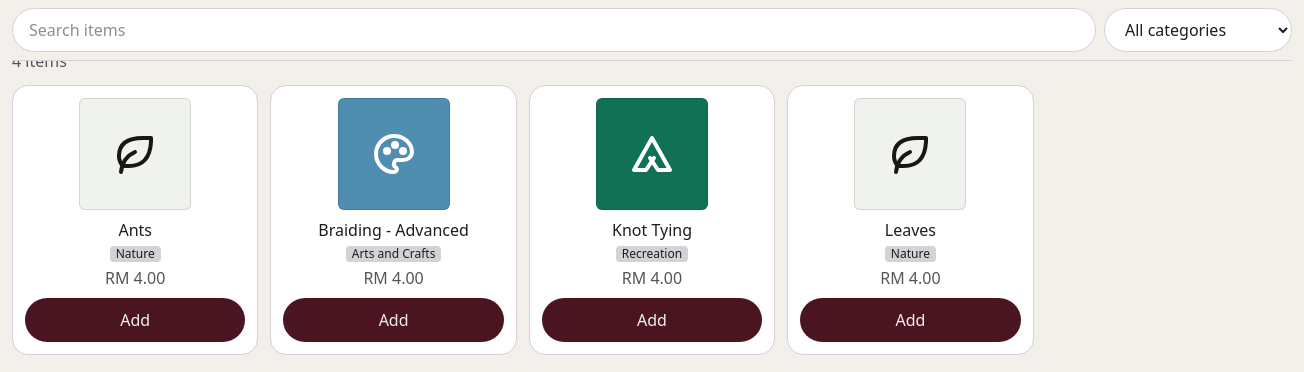
Catalogue › search and category filter › choosing Nature shows only Nature rows and choosing All categories brings every row back
This screenshot has width=1304, height=372.
Expected: the text "Ants" is shown, x1=118 y1=218 x2=152 y2=242
Select "Nature" in the dropdown named "Category" at (1198, 30), box x1=1104 y1=8 x2=1292 y2=52
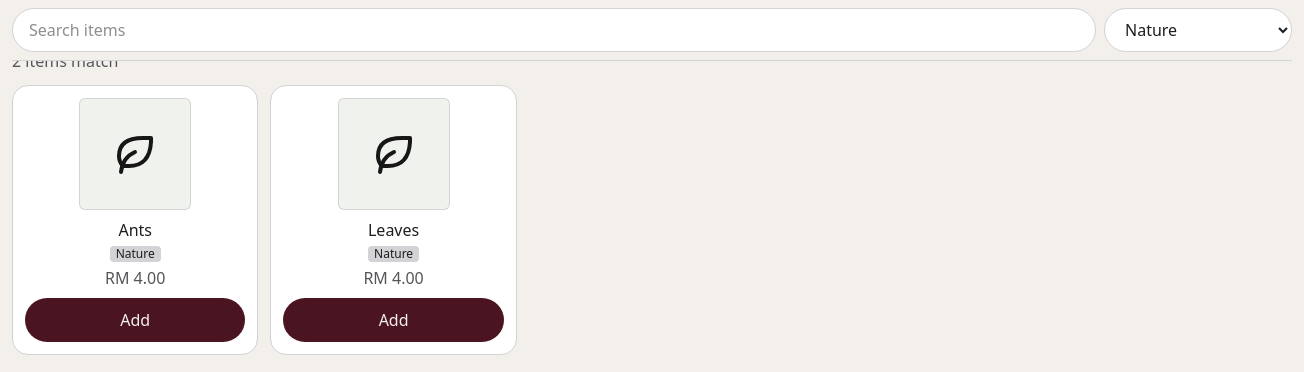
Select "All categories" in the dropdown named "Category" at (1198, 30), box x1=1104 y1=8 x2=1292 y2=52
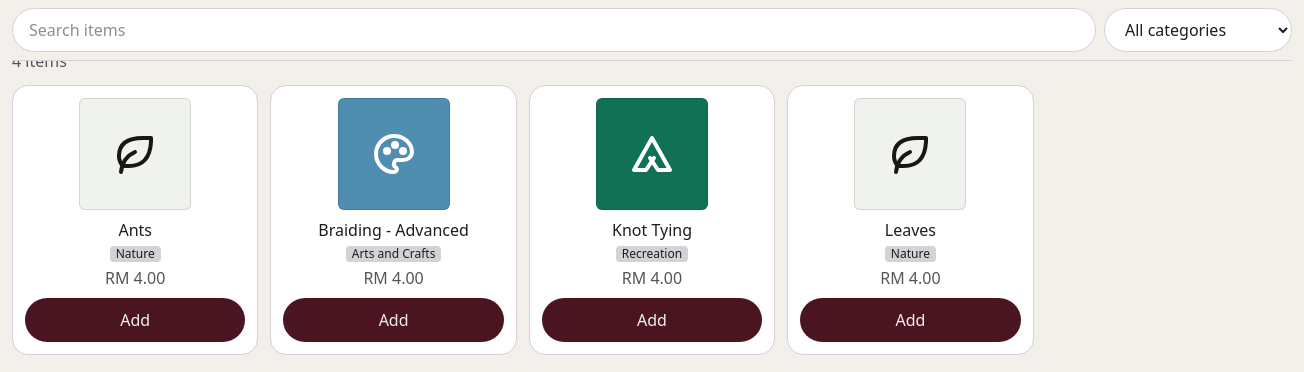
Expected: the number of list items is 4, x1=12 y1=85 x2=258 y2=355; x1=270 y1=85 x2=517 y2=355; x1=529 y1=85 x2=775 y2=355; x1=787 y1=85 x2=1034 y2=355
Expected: the text "4 items" is shown, x1=12 y1=50 x2=67 y2=72
